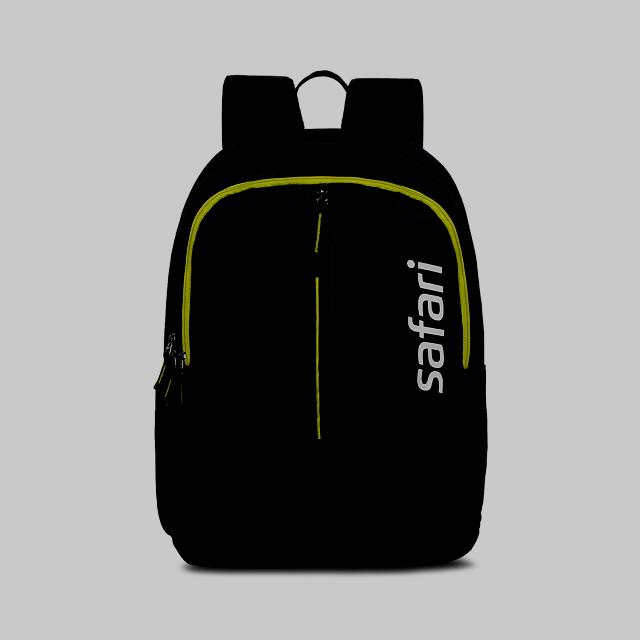backpack: (154, 70, 489, 569)
